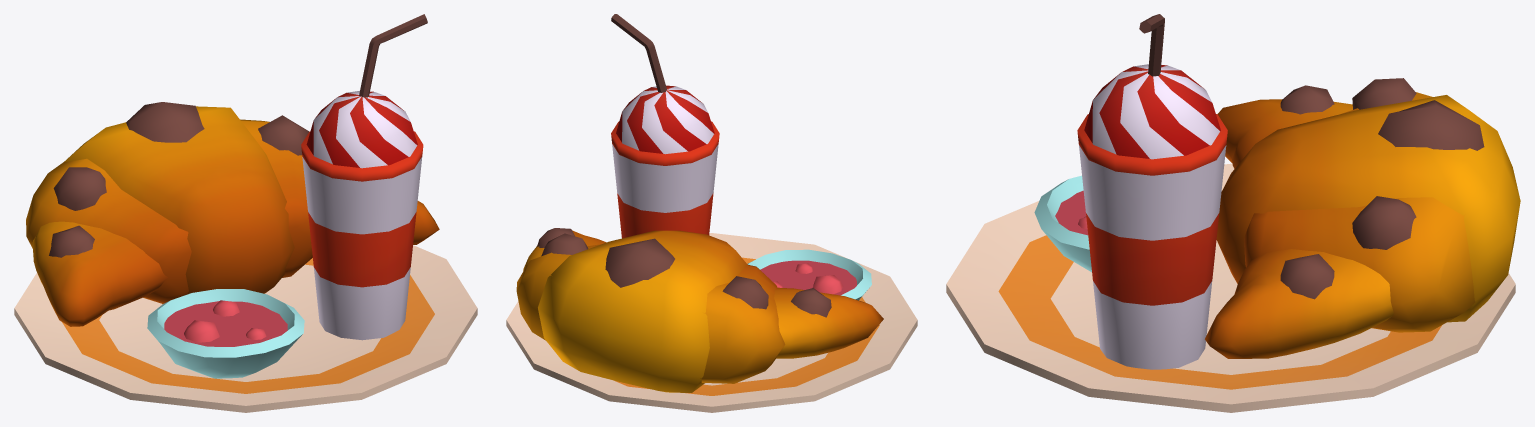
Rendered from Croissants.fbx.
3 views of the same model, side by side, from view 1: azimuth 30°, elevation 25°; view 2: azimuth 150°, elevation 25°; view 3: azimuth 270°, elevation 25° (orthographic). The views are drawn at different scales.
Parts seen in each view (by area): view 1: Banh_sung_bo_lv5; view 2: Banh_sung_bo_lv5; view 3: Banh_sung_bo_lv5.
Boxes of the visible parts, x1,y1,x2,y2 form: Banh_sung_bo_lv5: (14, 14, 477, 412); Banh_sung_bo_lv5: (506, 14, 917, 412); Banh_sung_bo_lv5: (946, 14, 1520, 412).
Bounding box in the file's own units: 176 × 135 × 178.
